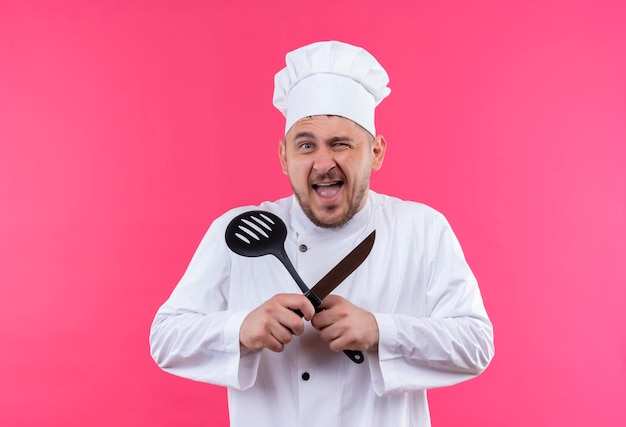knife: (300, 228, 378, 309)
